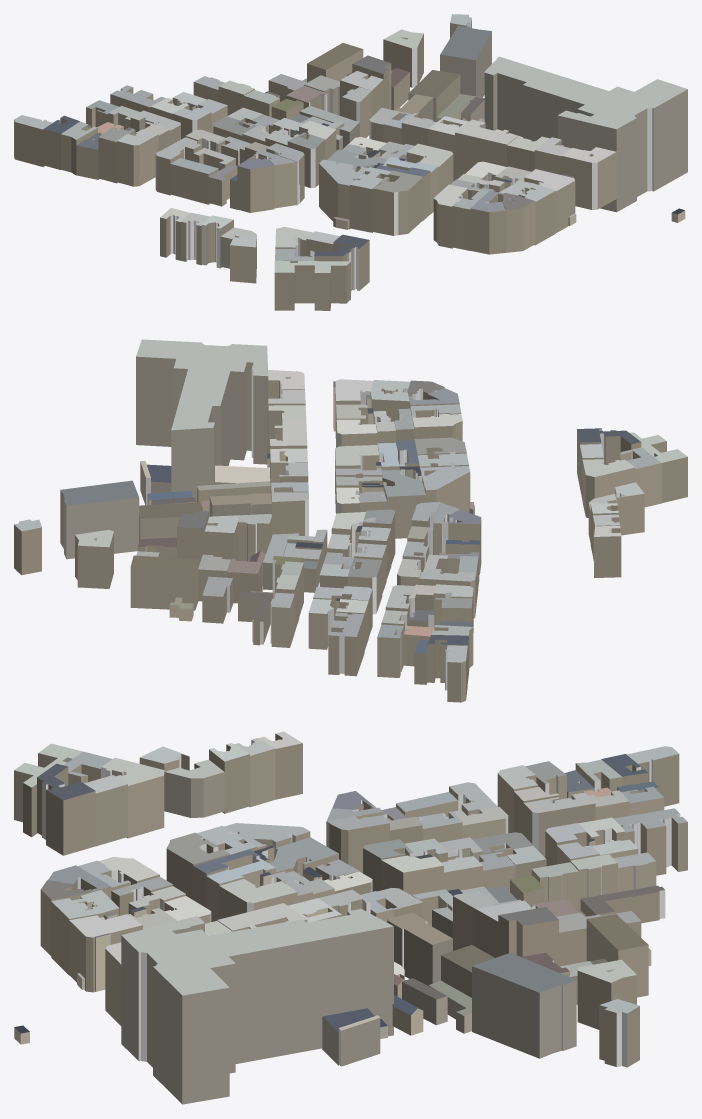
3 renders of one model, top to bottom at view 1: azimuth 30°, elevation 25°; view 2: azimuth 150°, elevation 25°; view 3: azimuth 270°, elevation 25°, orthographic. The views are drawn at different scales.
Parts seen in each view (by area): view 1: tuile; view 2: tuile; view 3: tuile.
Part boxes in pixels (x1,y1,x2,y2): tuile: [14, 14, 687, 310]; tuile: [14, 339, 687, 702]; tuile: [14, 731, 687, 1104].
Size of the model in its own units: 292 by 48.97 by 266.
